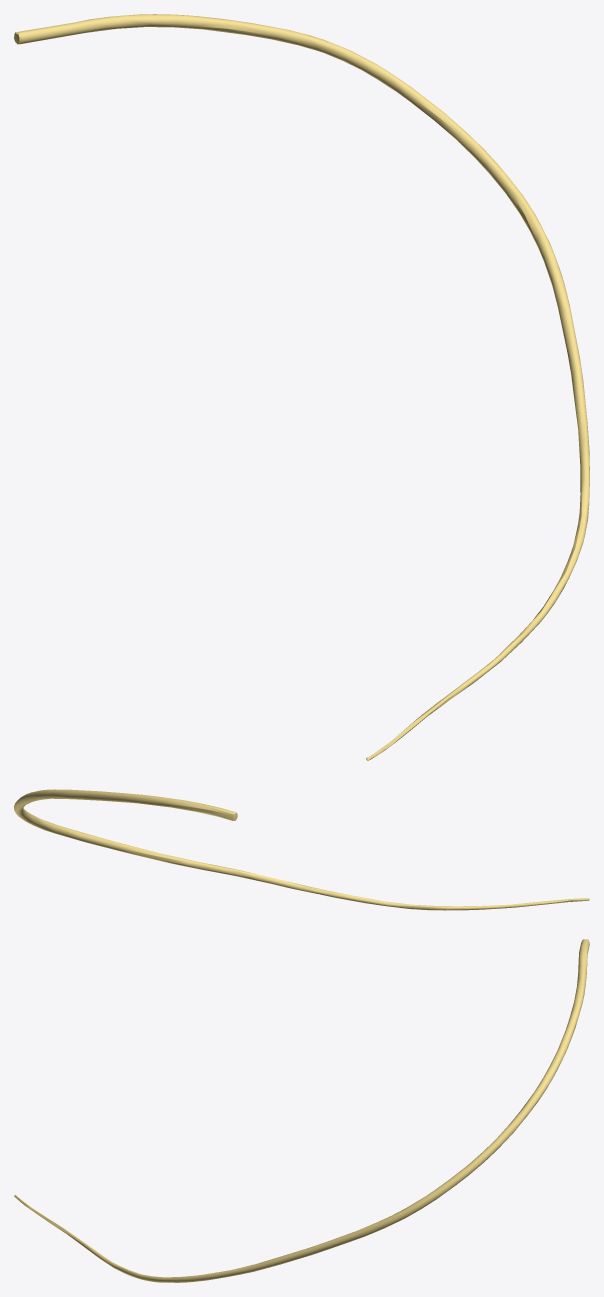
The model's file is fma85334_fj4178.glb.
3 views of the same model, one above another, from view 1: azimuth 30°, elevation 25°; view 2: azimuth 150°, elevation 25°; view 3: azimuth 270°, elevation 25° (orthographic). The views are drawn at different scales.
Visible parts, largest first — view 1: FMA85334_FJ4178; view 2: FMA85334_FJ4178; view 3: FMA85334_FJ4178.
Part boxes in pixels (x1,y1,x2,y2): FMA85334_FJ4178: (14, 14, 589, 760); FMA85334_FJ4178: (14, 789, 589, 910); FMA85334_FJ4178: (14, 939, 589, 1282).
Size of the model in its own units: 0.0827 by 0.0706 by 0.129.
